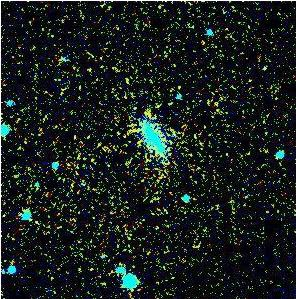star: (133, 95, 163, 125)
